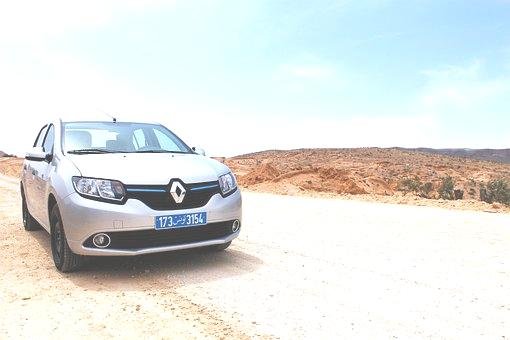Renault: (163, 176, 194, 207)
